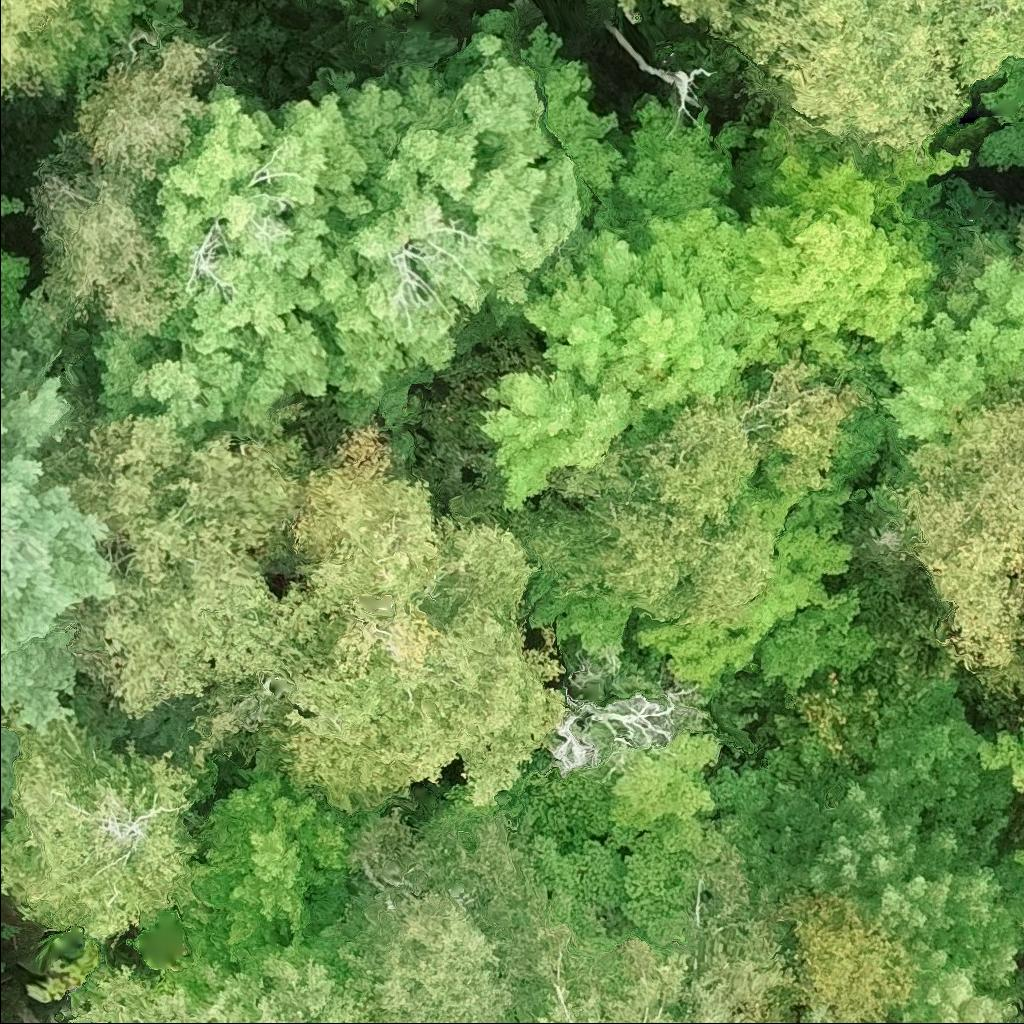crown: (84, 58, 464, 442), (322, 4, 627, 437), (241, 417, 568, 817), (475, 93, 787, 511), (497, 346, 881, 631), (38, 409, 333, 772), (755, 759, 1023, 1023), (726, 110, 973, 370), (0, 325, 117, 818), (504, 847, 803, 1023), (0, 716, 225, 947), (844, 171, 1023, 460), (631, 473, 853, 692), (332, 801, 541, 1023), (887, 381, 1023, 702), (722, 0, 970, 159), (186, 764, 373, 971), (25, 132, 174, 332), (861, 680, 1020, 836), (69, 949, 377, 1023), (76, 32, 216, 180), (767, 885, 916, 1023), (0, 0, 193, 101), (600, 726, 735, 868), (707, 746, 814, 898), (750, 583, 881, 696), (772, 670, 887, 777), (601, 831, 697, 945), (495, 766, 615, 848), (518, 576, 634, 660), (524, 832, 624, 920), (955, 0, 1023, 86), (976, 61, 1023, 175), (976, 727, 1023, 796), (658, 0, 736, 35), (0, 238, 29, 304), (0, 190, 28, 222), (372, 0, 418, 15), (609, 0, 641, 21), (1011, 693, 1023, 733), (1006, 842, 1023, 864)
